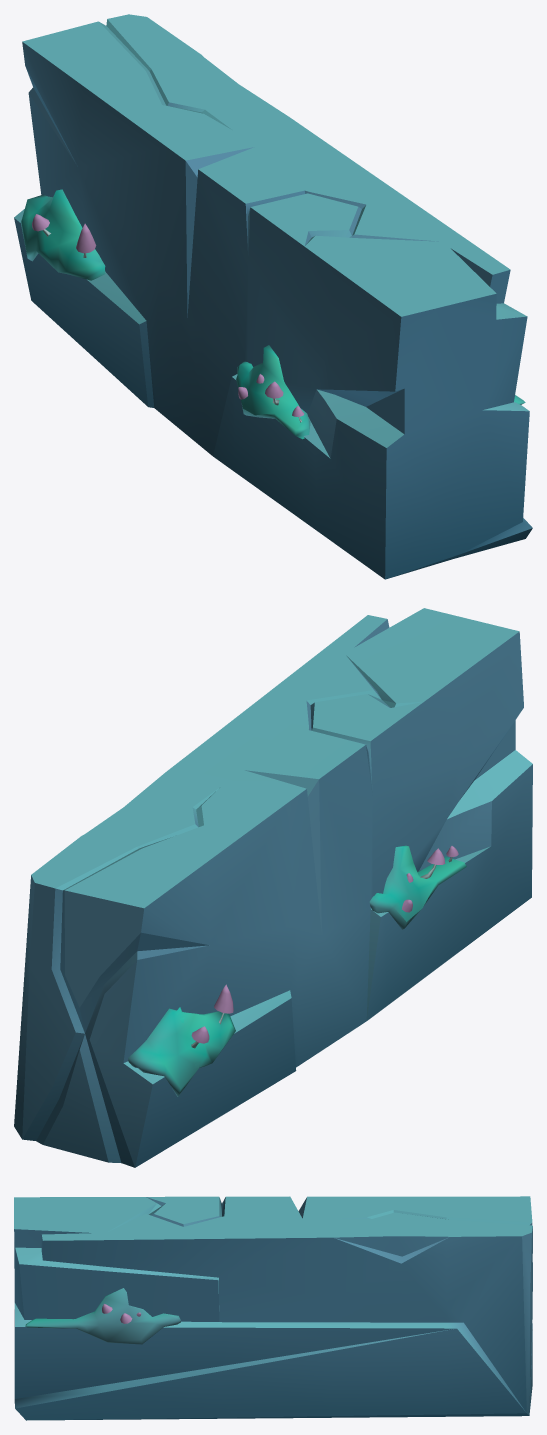
File: obstacle-rune_stone_LH2.glb
3 views of the same model, one above another, from view 1: azimuth 30°, elevation 25°; view 2: azimuth 150°, elevation 25°; view 3: azimuth 270°, elevation 25° (orthographic). The views are drawn at different scales.
Parts seen in each view (by area): view 1: obstacle-rune_stone_LH2; view 2: obstacle-rune_stone_LH2; view 3: obstacle-rune_stone_LH2.
Part boxes in pixels (x1,y1,x2,y2): obstacle-rune_stone_LH2: [14, 14, 532, 579]; obstacle-rune_stone_LH2: [14, 608, 532, 1167]; obstacle-rune_stone_LH2: [14, 1196, 532, 1420].
Bounding box in the file's own units: 2.87 × 4.35 × 11.41.
